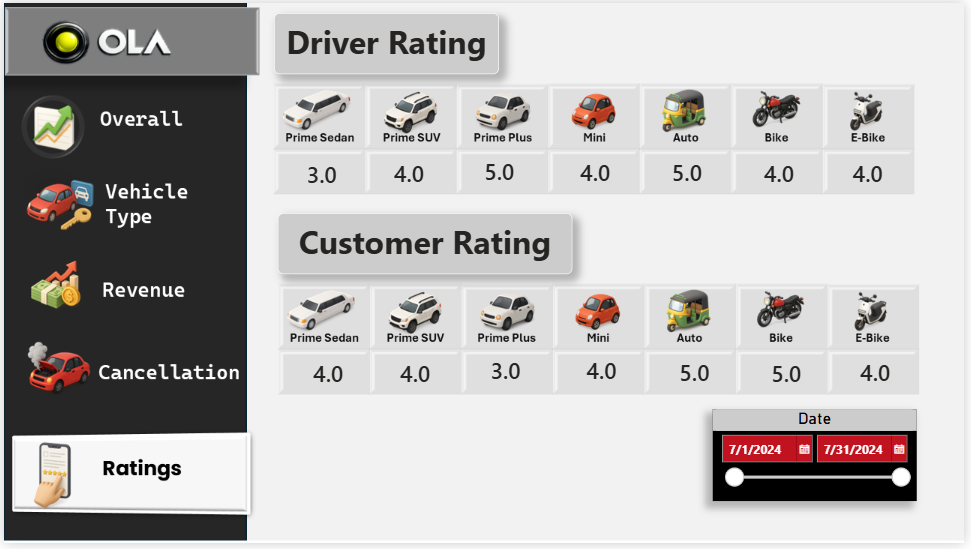

What the dashboard file says about the page in this screenshot:
{"tool":"powerbi","page":{"name":"Ratings","canvas":[1280,720],"ordinal":4},"visuals":[{"type":"actionButton","box":[0,225,325.2,97.4],"z":0},{"type":"actionButton","box":[0,333.4,325.2,97.4],"z":1000},{"type":"actionButton","box":[0,444.6,325.2,97.4],"z":2000},{"type":"actionButton","box":[0,115.3,325.2,97.4],"z":3000},{"type":"card","fields":{"Values":["Min(Data (2).Driver_Ratings)"]},"box":[370.1,205.8,108,45.3],"z":4000},{"type":"card","fields":{"Values":["Avg(Data (2).Driver_Ratings)"]},"box":[486.1,205.6,106.9,45.8],"z":5000},{"type":"card","fields":{"Values":["Max(Data (2).Driver_Ratings)"]},"box":[606.7,202.5,108,45.3],"z":6000},{"type":"card","fields":{"Values":["Avg(Data (2).Driver_Ratings)"]},"box":[734.7,202.8,106.9,45.8],"z":7000},{"type":"card","fields":{"Values":["Max(Data (2).Driver_Ratings)"]},"box":[856.9,205.6,108.3,44.4],"z":8000},{"type":"card","fields":{"Values":["Avg(Data (2).Driver_Ratings)"]},"box":[980.6,205.6,106.9,45.8],"z":9000},{"type":"card","fields":{"Values":["Avg(Data (2).Driver_Ratings)"]},"box":[1098.6,204.2,106.9,45.8],"z":10000},{"type":"card","fields":{"Values":["Avg(Data (2).Customer_Rating)"]},"box":[379,471.4,108,45.3],"z":11000},{"type":"card","fields":{"Values":["Avg(Data (2).Customer_Rating)"]},"box":[495,471.1,106.9,45.8],"z":12000},{"type":"card","fields":{"Values":["Min(Data (2).Customer_Rating)"]},"box":[615.6,468.1,108,45.3],"z":13000},{"type":"card","fields":{"Values":["Avg(Data (2).Customer_Rating)"]},"box":[743.6,468.3,106.9,45.8],"z":14000},{"type":"card","fields":{"Values":["Max(Data (2).Customer_Rating)"]},"box":[865.8,471.1,108.3,44.4],"z":15000},{"type":"card","fields":{"Values":["Max(Data (2).Customer_Rating)"]},"box":[989.4,471.1,106.9,45.8],"z":16000},{"type":"card","fields":{"Values":["Avg(Data (2).Customer_Rating)"]},"box":[1107.5,469.7,106.9,45.8],"z":17000},{"type":"textbox","box":[359.7,13.9,300,81.9],"z":18000},{"type":"textbox","box":[365.3,280.6,393.1,81.9],"z":19000},{"type":"slicer","title":"Date","fields":{"Values":["Data.Date"]},"box":[945.5,542,271.7,122.1],"z":19001}]}

Visuals, with their boxes in screenshot pixels (x1, y1, x2, y2), scaled from the page's 1280x720 canvas onto the 971x549 screenshot:
actionButton: box=[0, 172, 247, 246]
actionButton: box=[0, 254, 247, 328]
actionButton: box=[0, 339, 247, 413]
actionButton: box=[0, 88, 247, 162]
card - Min(Data (2).Driver_Ratings): box=[281, 157, 363, 191]
card - Avg(Data (2).Driver_Ratings): box=[369, 157, 450, 192]
card - Max(Data (2).Driver_Ratings): box=[460, 154, 542, 189]
card - Avg(Data (2).Driver_Ratings): box=[557, 155, 638, 190]
card - Max(Data (2).Driver_Ratings): box=[650, 157, 732, 191]
card - Avg(Data (2).Driver_Ratings): box=[744, 157, 825, 192]
card - Avg(Data (2).Driver_Ratings): box=[833, 156, 914, 191]
card - Avg(Data (2).Customer_Rating): box=[288, 359, 369, 394]
card - Avg(Data (2).Customer_Rating): box=[376, 359, 457, 394]
card - Min(Data (2).Customer_Rating): box=[467, 357, 549, 391]
card - Avg(Data (2).Customer_Rating): box=[564, 357, 645, 392]
card - Max(Data (2).Customer_Rating): box=[657, 359, 739, 393]
card - Max(Data (2).Customer_Rating): box=[751, 359, 832, 394]
card - Avg(Data (2).Customer_Rating): box=[840, 358, 921, 393]
textbox: box=[273, 11, 500, 73]
textbox: box=[277, 214, 575, 276]
"Date" slicer: box=[717, 413, 923, 506]
